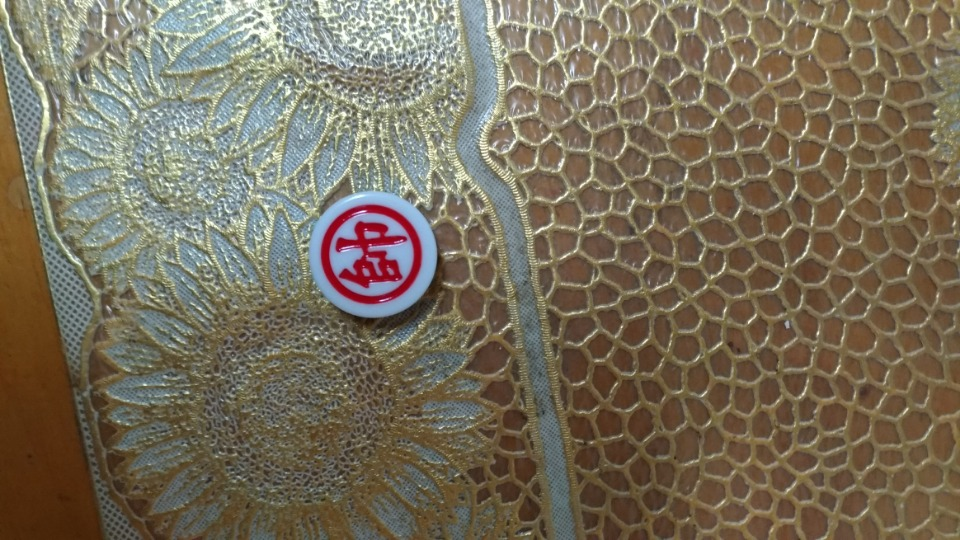r-king: (305, 188, 436, 322)
